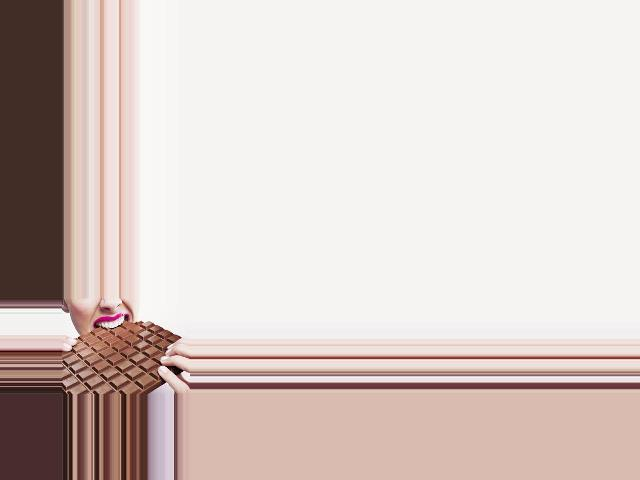chocolate: (62, 318, 190, 394)
